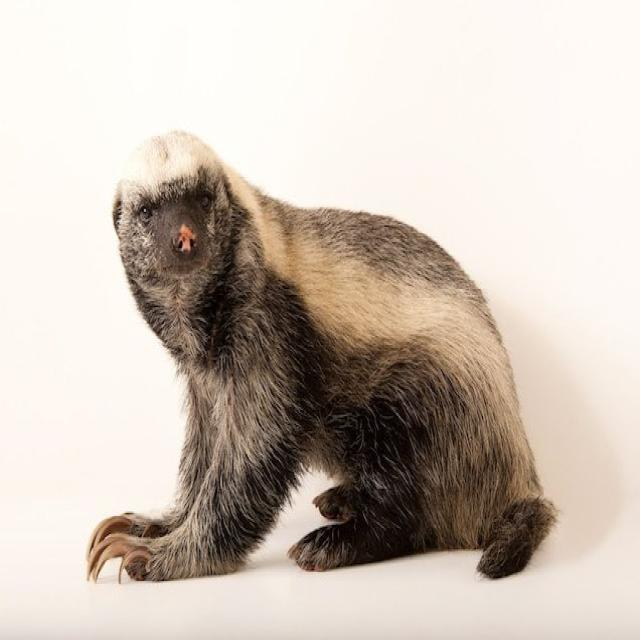Badger: (90, 112, 559, 587)
